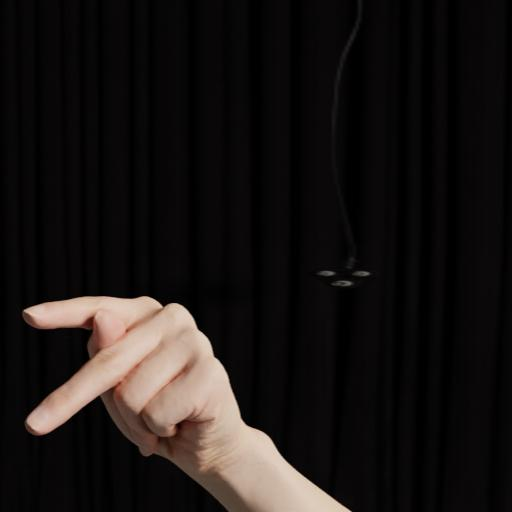P: (11, 282, 265, 482)
